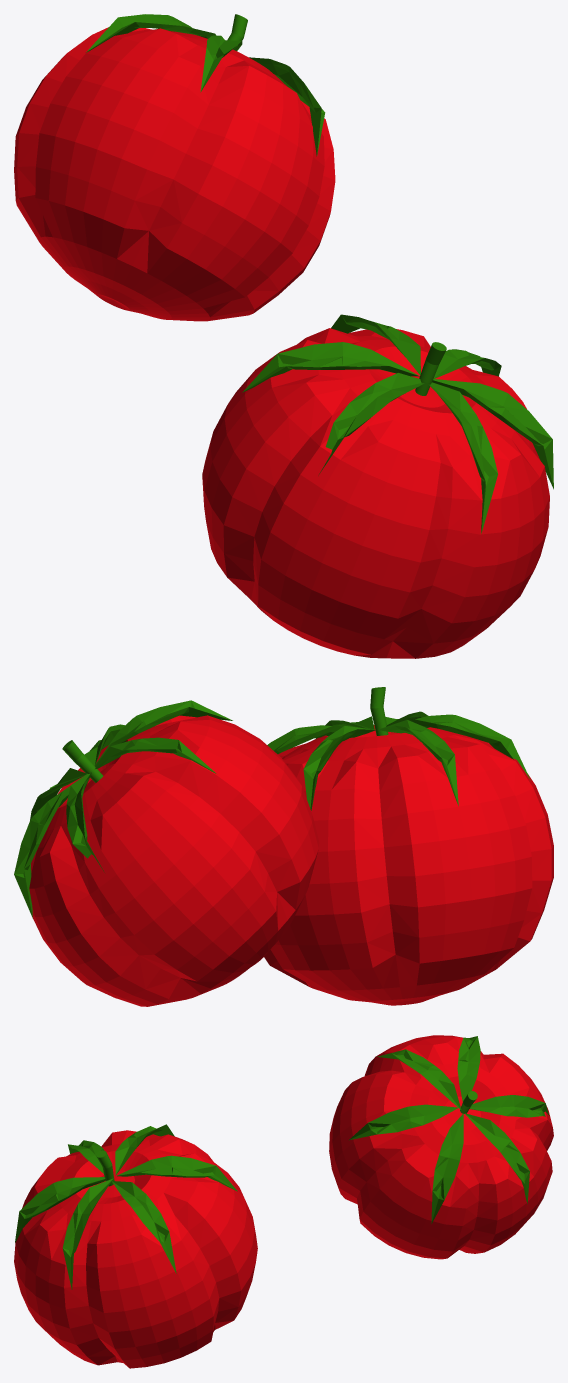
File: MAKE TOMATO.dae
3 renders of one model, top to bottom at view 1: azimuth 30°, elevation 25°; view 2: azimuth 150°, elevation 25°; view 3: azimuth 270°, elevation 25°, orthographic. The views are drawn at different scales.
Parts seen in each view (by area): view 1: Sphere, Sphere.001, leaves, leaves.001, Circle; view 2: Sphere.001, Sphere, leaves.001, leaves, Circle, Circle.001; view 3: Sphere, Sphere.001, leaves.001, leaves.
Part boxes in pixels (x1=…): Sphere: x1=202, y1=328, x2=549, y2=658; Sphere.001: x1=14, y1=27, x2=335, y2=321; leaves: x1=242, y1=314, x2=553, y2=533; leaves.001: x1=86, y1=14, x2=325, y2=156; Circle: x1=415, y1=342, x2=446, y2=395; Sphere.001: x1=29, y1=715, x2=319, y2=1006; Sphere: x1=264, y1=725, x2=553, y2=1005; leaves.001: x1=14, y1=700, x2=232, y2=918; leaves: x1=267, y1=711, x2=530, y2=810; Circle: x1=370, y1=687, x2=388, y2=735; Circle.001: x1=62, y1=740, x2=103, y2=782; Sphere: x1=14, y1=1130, x2=257, y2=1368; Sphere.001: x1=329, y1=1035, x2=553, y2=1259; leaves.001: x1=349, y1=1036, x2=549, y2=1223; leaves: x1=15, y1=1124, x2=237, y2=1289.
Size of the model in its own units: 2.16 by 4.5 by 2.86.
